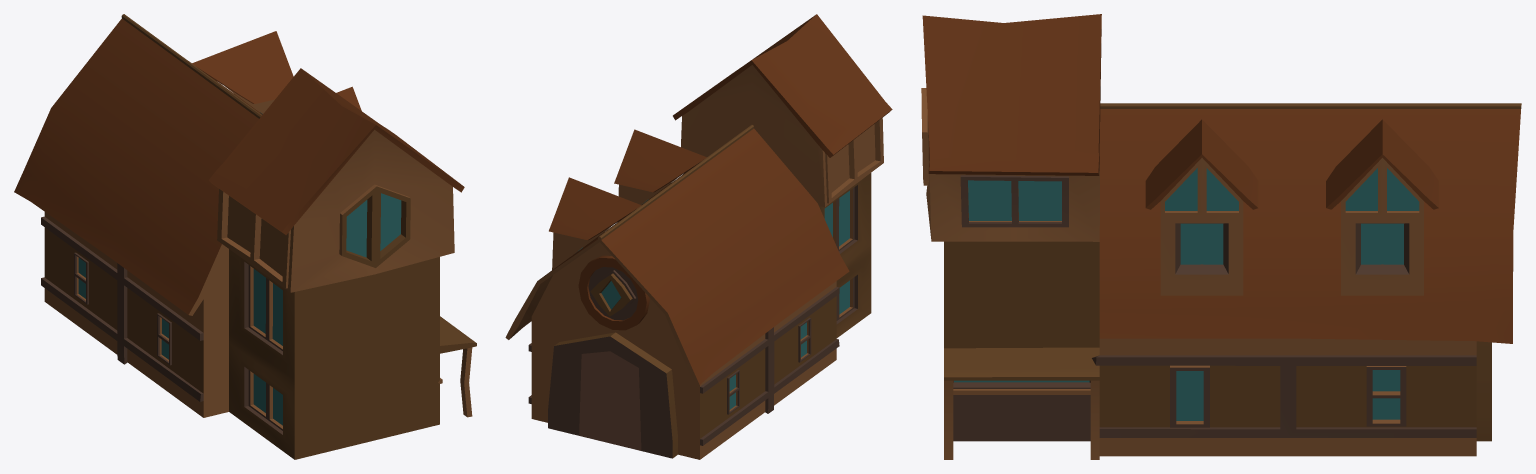
File: House_1.fbx
The picture shows the model from 3 angles, left to right: view 1: azimuth 30°, elevation 25°; view 2: azimuth 150°, elevation 25°; view 3: azimuth 270°, elevation 25°; orthographic projection. The views are drawn at different scales.
Visible parts, largest first — view 1: Plane; view 2: Plane; view 3: Plane.
Boxes of the visible parts, left/top/right/bottom form: Plane: left=14, top=14, right=476, bottom=459; Plane: left=505, top=14, right=892, bottom=459; Plane: left=921, top=14, right=1521, bottom=459.
Bounding box in the file's own units: 343 × 477 × 665.
